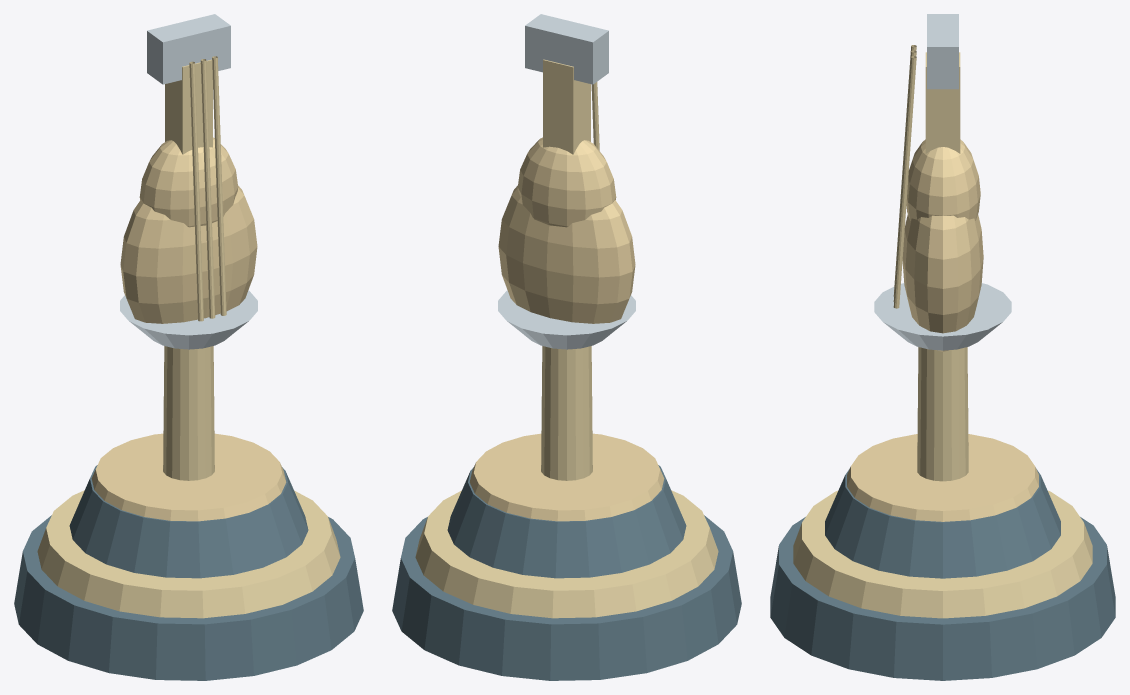
Rendered from tennessee-vanderbilt.glb.
The picture shows the model from 3 angles, left to right: view 1: azimuth 30°, elevation 25°; view 2: azimuth 150°, elevation 25°; view 3: azimuth 270°, elevation 25°; orthographic projection.
Bounding box in the file's own units: 1.2 × 2.19 × 1.19.
